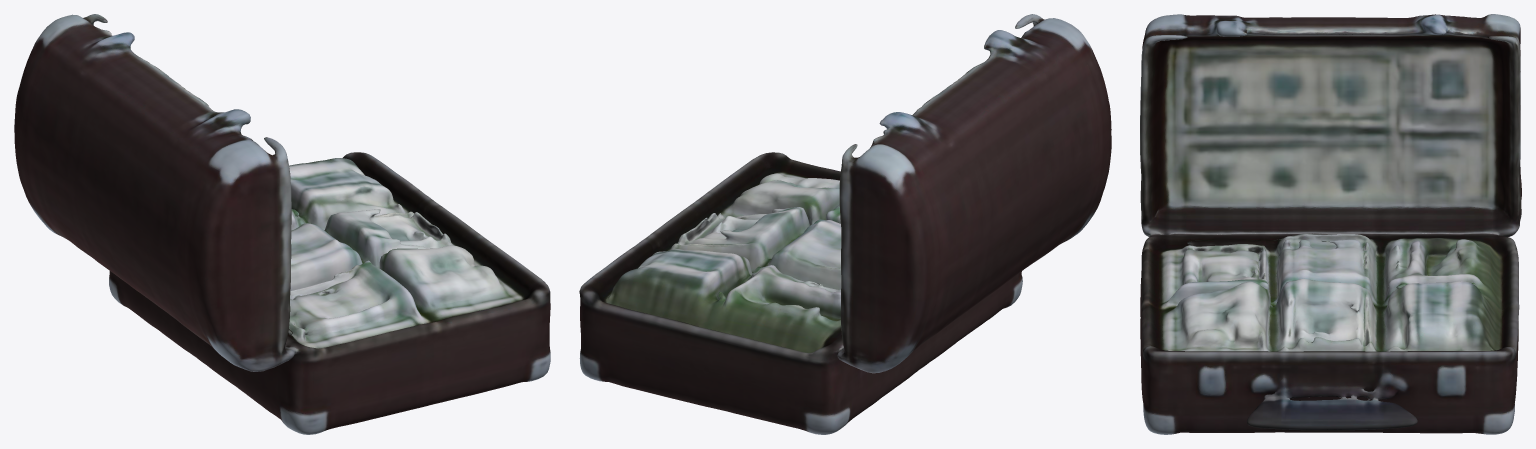
Rendered from Suitcase.glb.
3 views of the same model, side by side, from view 1: azimuth 30°, elevation 25°; view 2: azimuth 150°, elevation 25°; view 3: azimuth 270°, elevation 25° (orthographic). The views are drawn at different scales.
Visible parts, largest first — view 1: high_poly; view 2: high_poly; view 3: high_poly.
Boxes of the visible parts, box(x1,y1,x2,y2) form: high_poly: box(14, 14, 550, 434); high_poly: box(579, 14, 1111, 434); high_poly: box(1140, 14, 1521, 434).
Bounding box in the file's own units: 1 × 0.7253 × 0.8666.
1 material, 1 textured.
